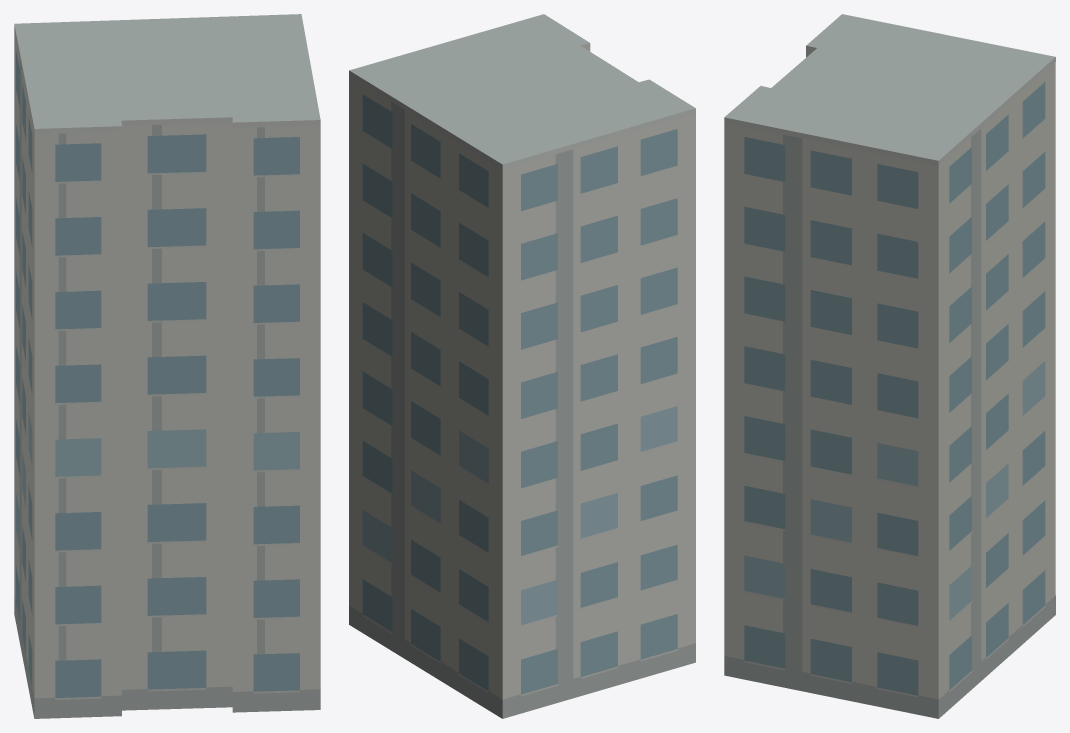
The model's file is survey-upis-32632944.glb.
The picture shows the model from 3 angles, left to right: view 1: azimuth 30°, elevation 25°; view 2: azimuth 150°, elevation 25°; view 3: azimuth 270°, elevation 25°; orthographic projection. The views are drawn at different scales.
Visible parts, largest first — view 1: survey-upis-32632944.tmp; view 2: survey-upis-32632944.tmp; view 3: survey-upis-32632944.tmp.
Part boxes in pixels (x1,y1,x2,y2): survey-upis-32632944.tmp: (14,14,320,718); survey-upis-32632944.tmp: (349,14,695,718); survey-upis-32632944.tmp: (724,14,1055,718).
Bounding box in the file's own units: 14.62 × 25.9 × 13.95.
